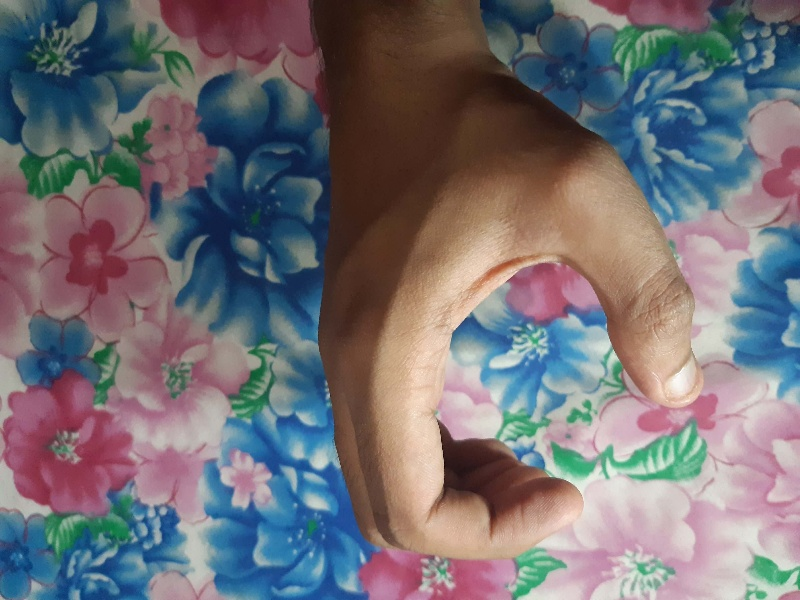one: (304, 62, 711, 578)
